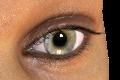eye: (45, 29, 77, 55)
